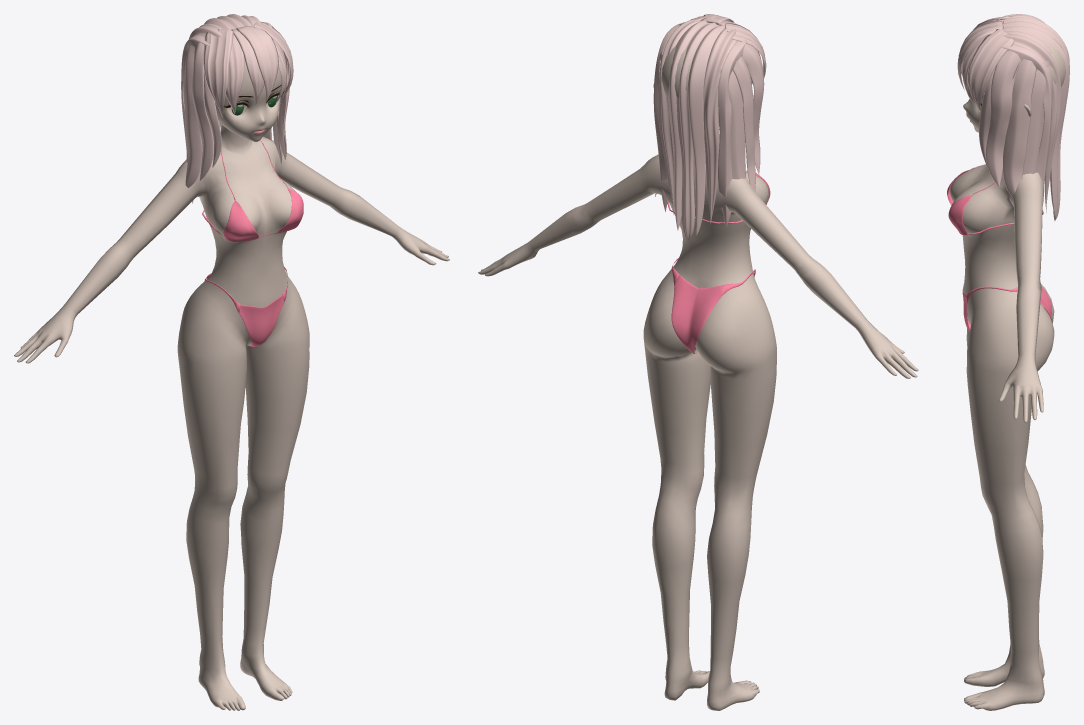
The model's file is genshin_full2.fbx.
The picture shows the model from 3 angles, left to right: view 1: azimuth 30°, elevation 25°; view 2: azimuth 150°, elevation 25°; view 3: azimuth 270°, elevation 25°; orthographic projection.
Visible parts, largest first — view 1: Character_Preview_1; view 2: Character_Preview_1; view 3: Character_Preview_1.
Part boxes in pixels (box(x1,y1,x2,y2)): Character_Preview_1: box(14, 14, 449, 710); Character_Preview_1: box(478, 14, 918, 710); Character_Preview_1: box(947, 14, 1069, 710).
Size of the model in its own units: 830 by 1230 by 204.
